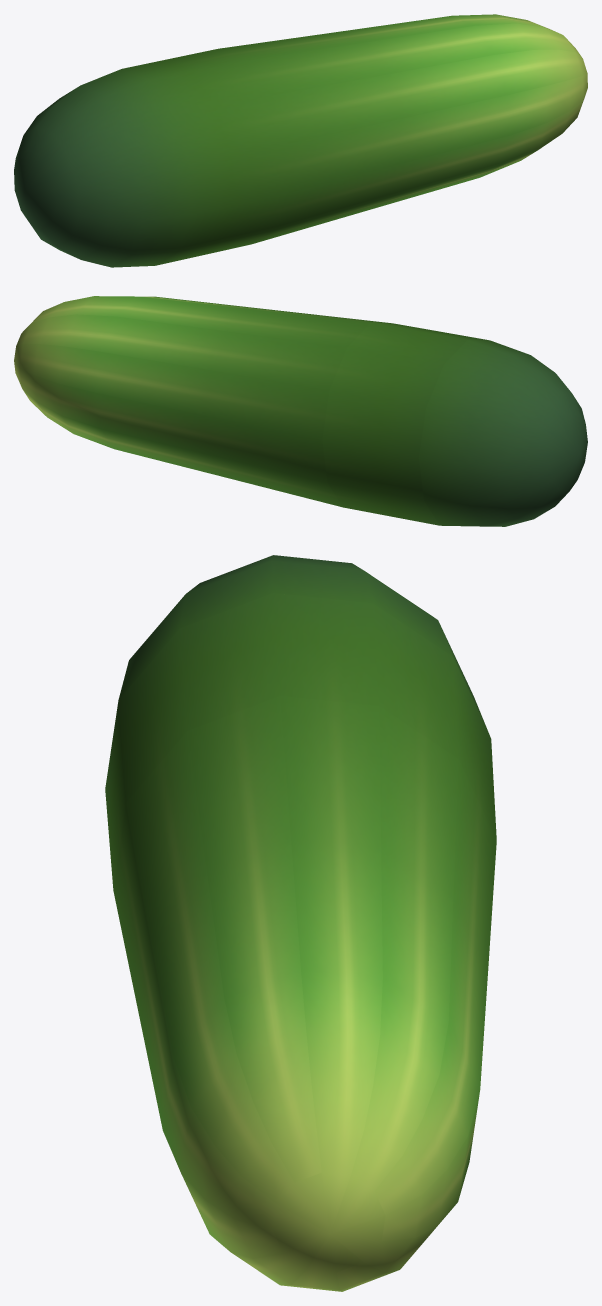
File: Cucumber.fbx
3 views of the same model, one above another, from view 1: azimuth 30°, elevation 25°; view 2: azimuth 150°, elevation 25°; view 3: azimuth 270°, elevation 25° (orthographic). The views are drawn at different scales.
Visible parts, largest first — view 1: Cucumber; view 2: Cucumber; view 3: Cucumber.
Boxes of the visible parts, box(x1,y1,x2,y2) form: Cucumber: box(14, 14, 587, 267); Cucumber: box(14, 296, 587, 526); Cucumber: box(105, 555, 496, 1291).
Size of the model in its own units: 8.87 by 2.73 by 2.72.
